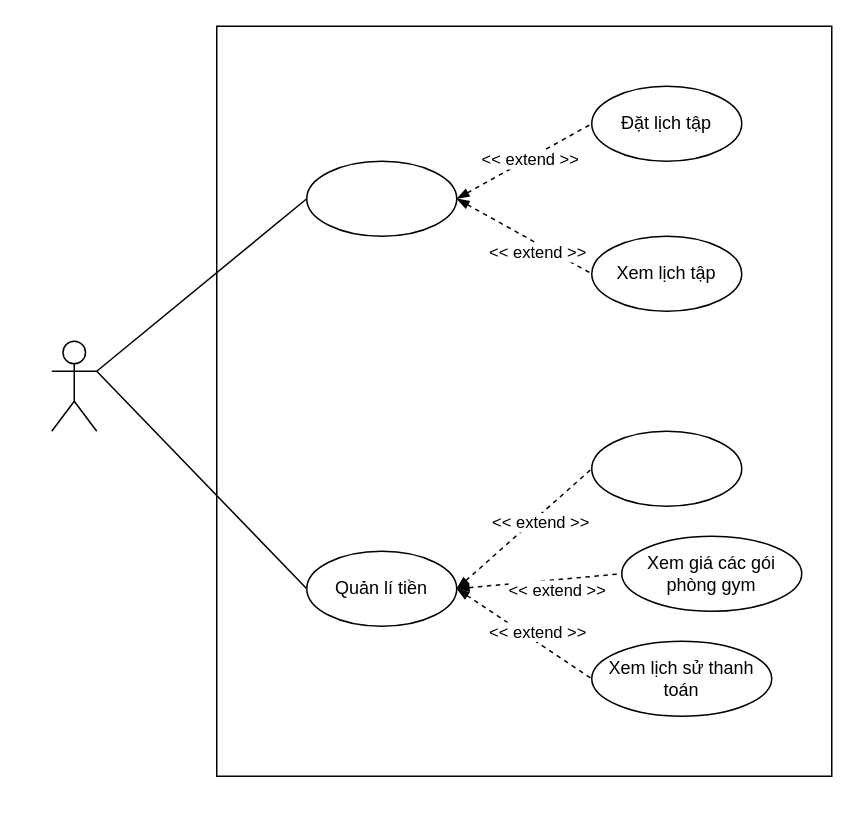
Image size: 858x815. Some labels were removed from this diagram. The shapes that lost their labels are listed below. From the top down, each one's centre as x and y in pixels, then its label:
At (x=381, y=198): "Quản lí lịch tập".
At (x=73, y=385): "Khách hàng".
At (x=666, y=468): "Nộp phí".
